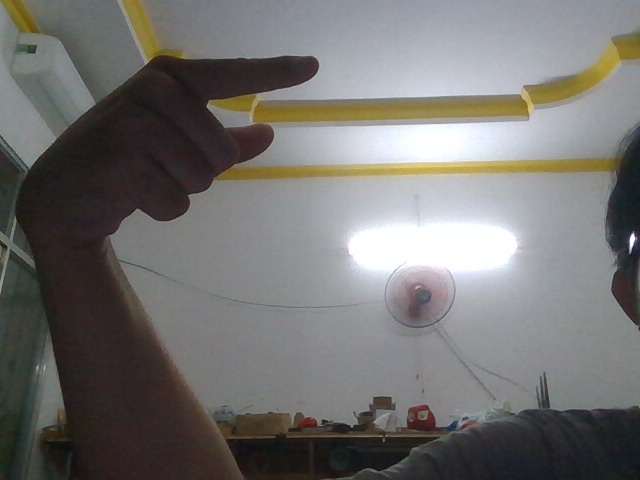turn_left: (10, 48, 332, 244)
